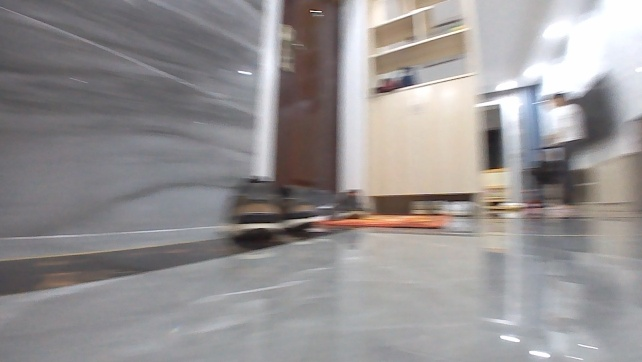blanket: (326, 206, 450, 230)
door_anno: (273, 0, 341, 194)
